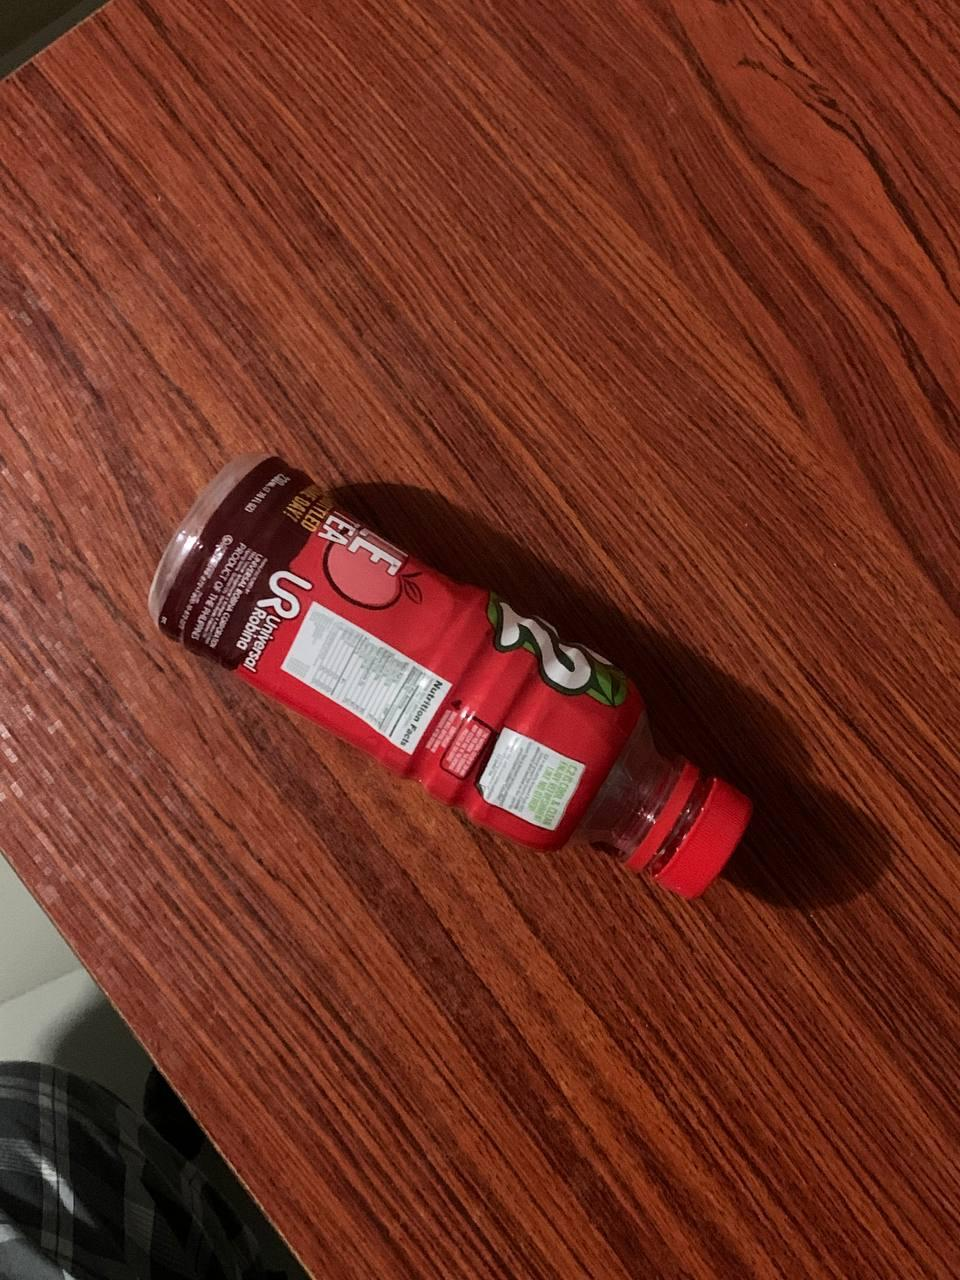plastic: (88, 409, 909, 997)
